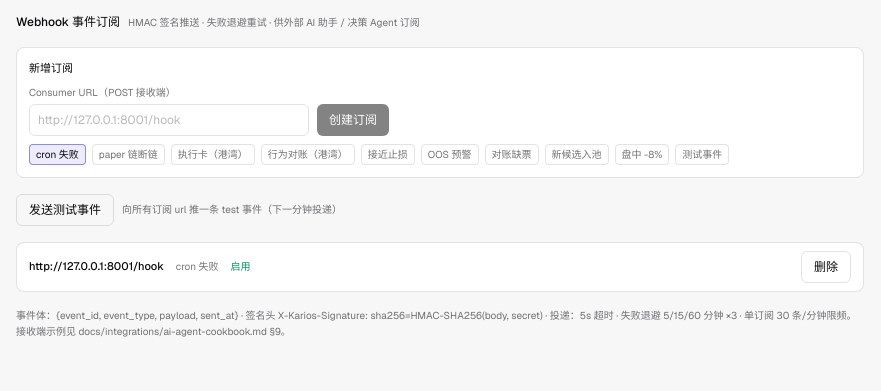
Test: WebhookPage › creates a subscription and reveals the secret once
Expected: the text "http://127.0.0.1:8001/hook" is shown, [29,258,164,275]
Step 1. Type "http://127.0.0.1:9000/hook" into the field with placeholder "http://127.0.0.1:8001/hook" → (169,120), box [29,104,309,136]
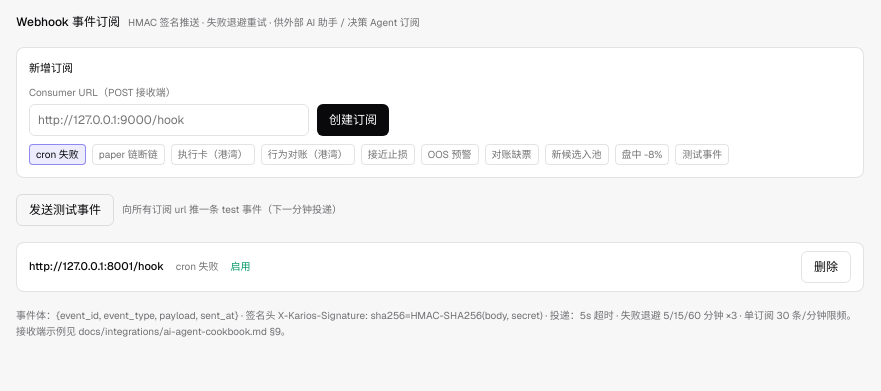
Step 2. Click the button "创建订阅" → (353,120), box [317,104,389,136]
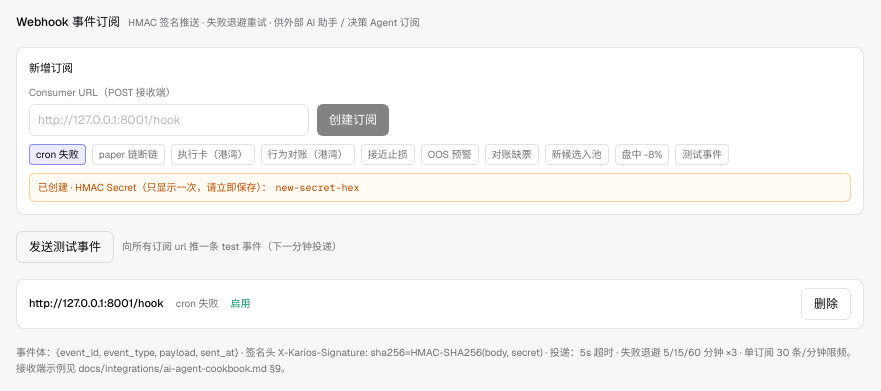
Now the text "new-secret-hex" is shown, box [276,180,360,194]
